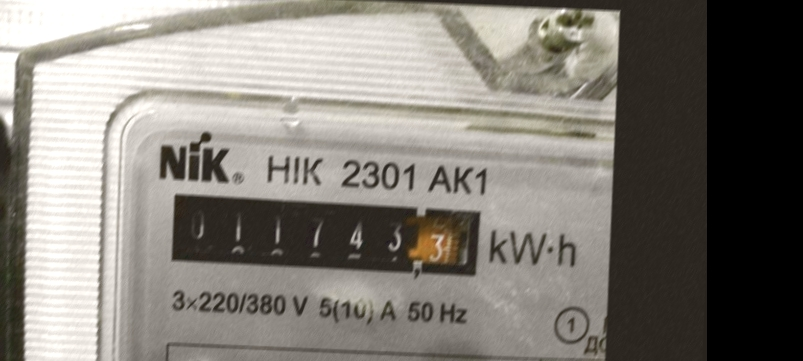0: (186, 207, 207, 244)
1: (269, 211, 286, 246), (232, 210, 244, 243)
3: (383, 219, 404, 255), (427, 233, 446, 267)
4: (346, 218, 365, 252)
7: (307, 215, 327, 250)
screen: (156, 183, 494, 291)
